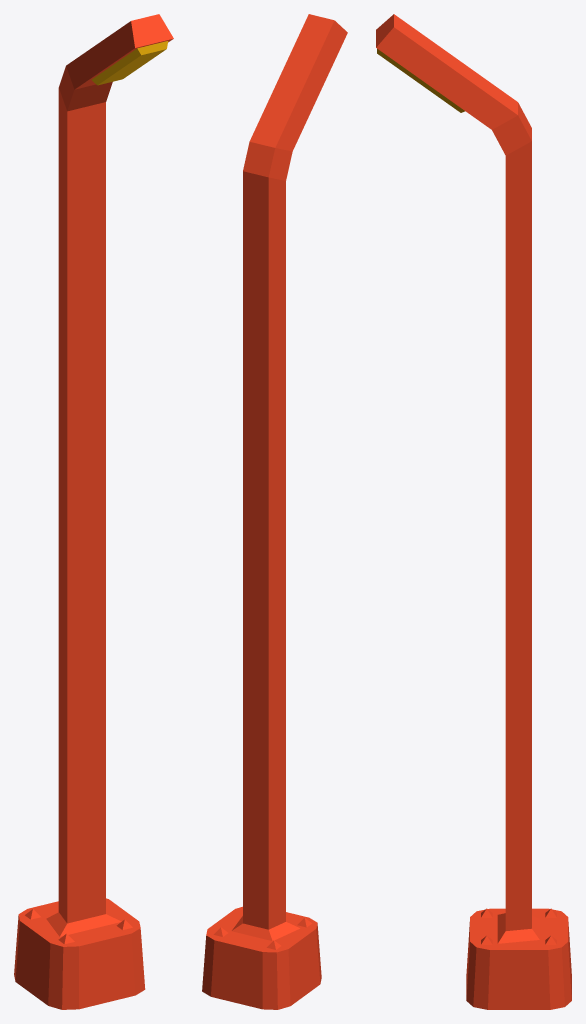
File: SM_Lamp_Sidewalk_E_City.fbx
3 views of the same model, side by side, from view 1: azimuth 30°, elevation 25°; view 2: azimuth 150°, elevation 25°; view 3: azimuth 270°, elevation 25° (orthographic). The views are drawn at different scales.
Parts seen in each view (by area): view 1: SM_Lamp_Sidewalk_E_City; view 2: SM_Lamp_Sidewalk_E_City; view 3: SM_Lamp_Sidewalk_E_City.
Boxes of the visible parts, x1,y1,x2,y2 form: SM_Lamp_Sidewalk_E_City: (14, 14, 173, 1009); SM_Lamp_Sidewalk_E_City: (202, 14, 347, 1009); SM_Lamp_Sidewalk_E_City: (376, 14, 571, 1009).
Bounding box in the file's own units: 0.4095 × 4.14 × 0.7603.
